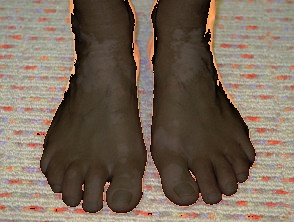vitiligo: (66, 23, 138, 127), (147, 13, 218, 92), (108, 137, 147, 203), (150, 117, 199, 162), (156, 158, 196, 203)
